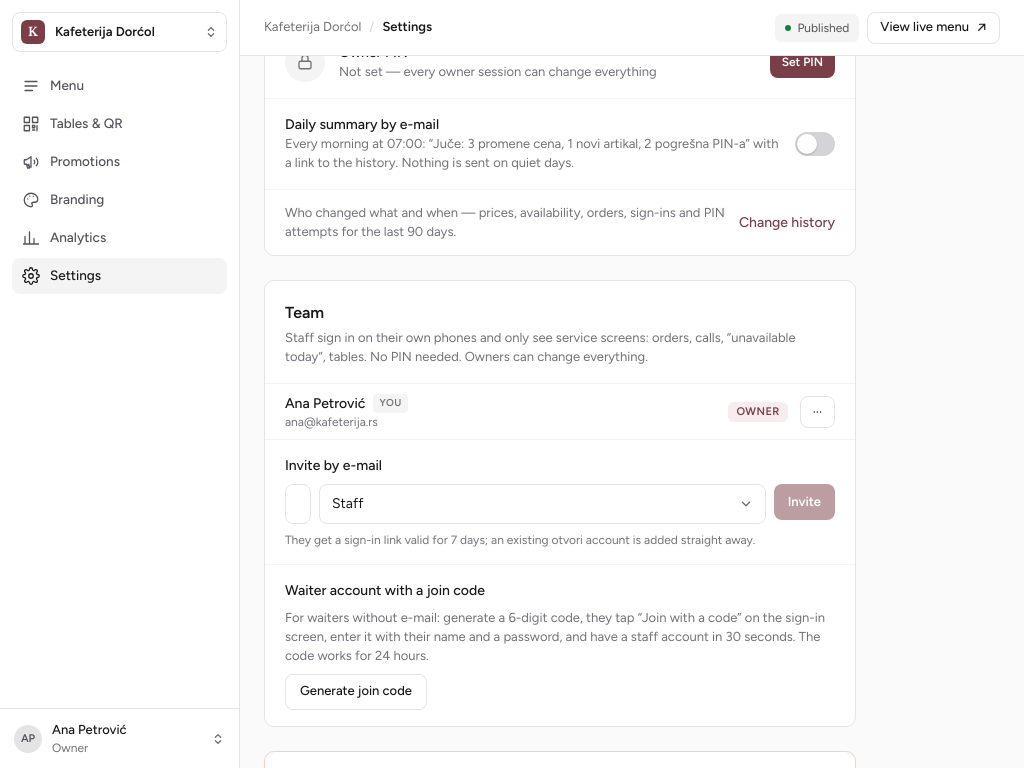
Test: team (Phase 11) › never offers to demote or remove the last owner
This screenshot has width=1024, height=768.
(page scrolled)
Click the button "···".
click(817, 412)  # box [800, 396, 835, 428]
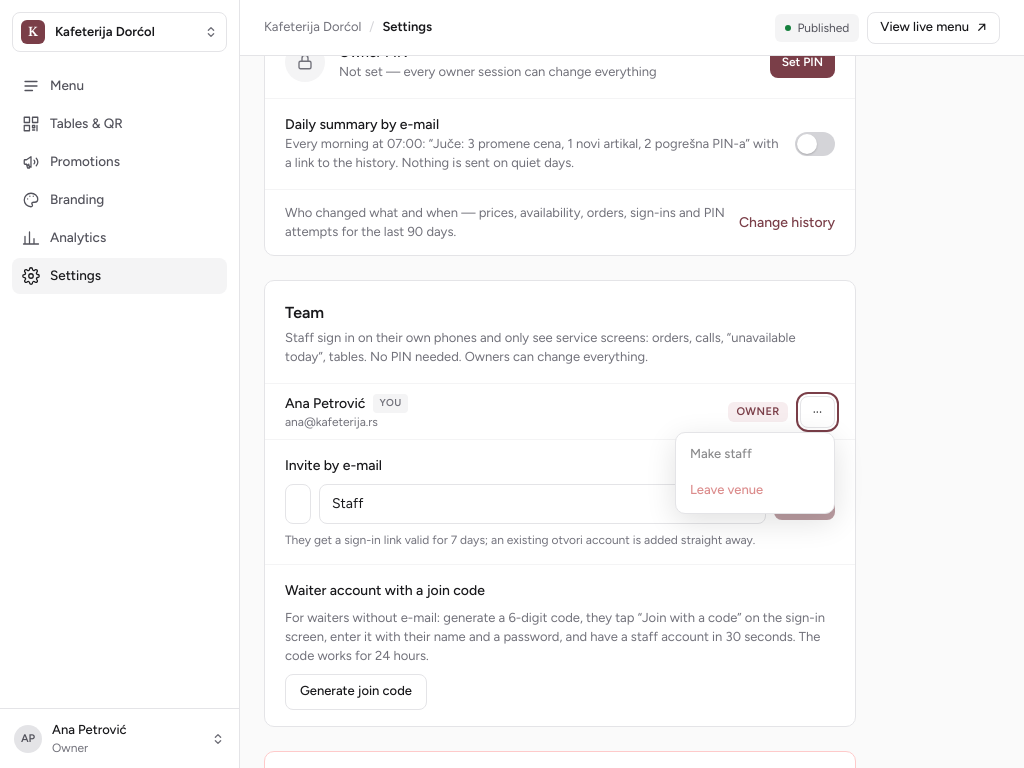
Check: the menu item "Make staff" is disabled, box [680, 436, 830, 472]
Check: the menu item "Leave venue" is disabled, box [680, 472, 830, 508]
